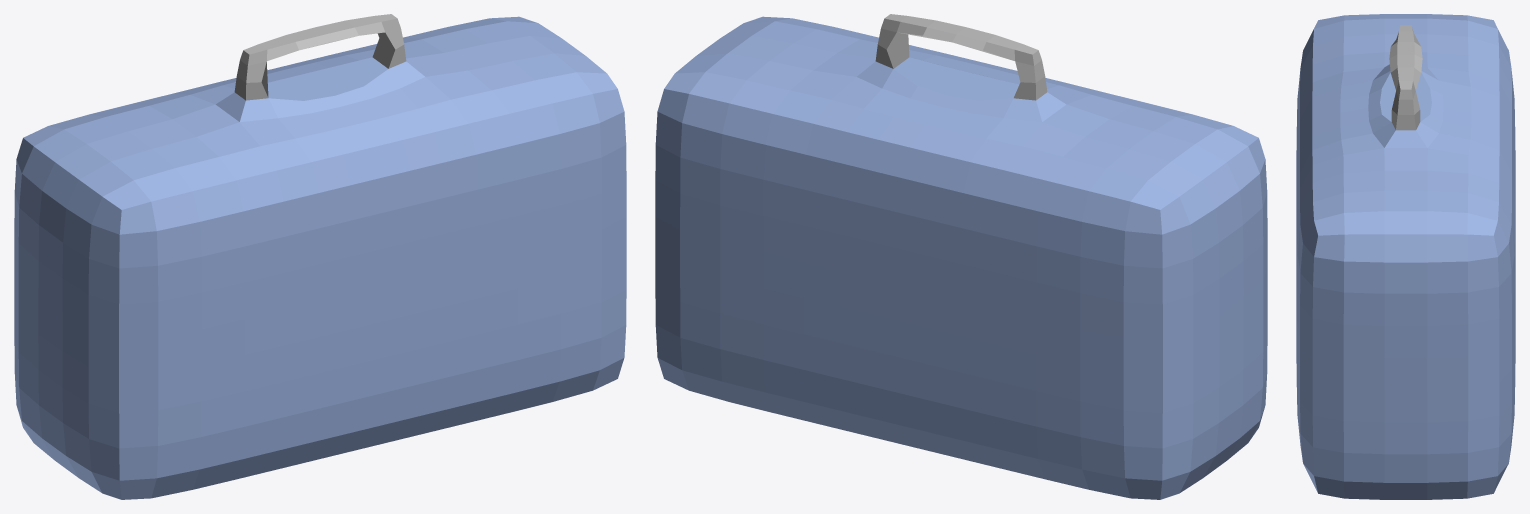
File: rtm_bluesuitcase.gltf
The picture shows the model from 3 angles, left to right: view 1: azimuth 30°, elevation 25°; view 2: azimuth 150°, elevation 25°; view 3: azimuth 270°, elevation 25°; orthographic projection. The views are drawn at different scales.
Visible parts, largest first — view 1: Cube; view 2: Cube; view 3: Cube.
Part boxes in pixels (bbox=[...]): Cube: bbox=[14, 14, 626, 499]; Cube: bbox=[655, 14, 1267, 499]; Cube: bbox=[1296, 14, 1515, 499].
Size of the model in its own units: 0.6211 by 0.4288 by 0.2453.
